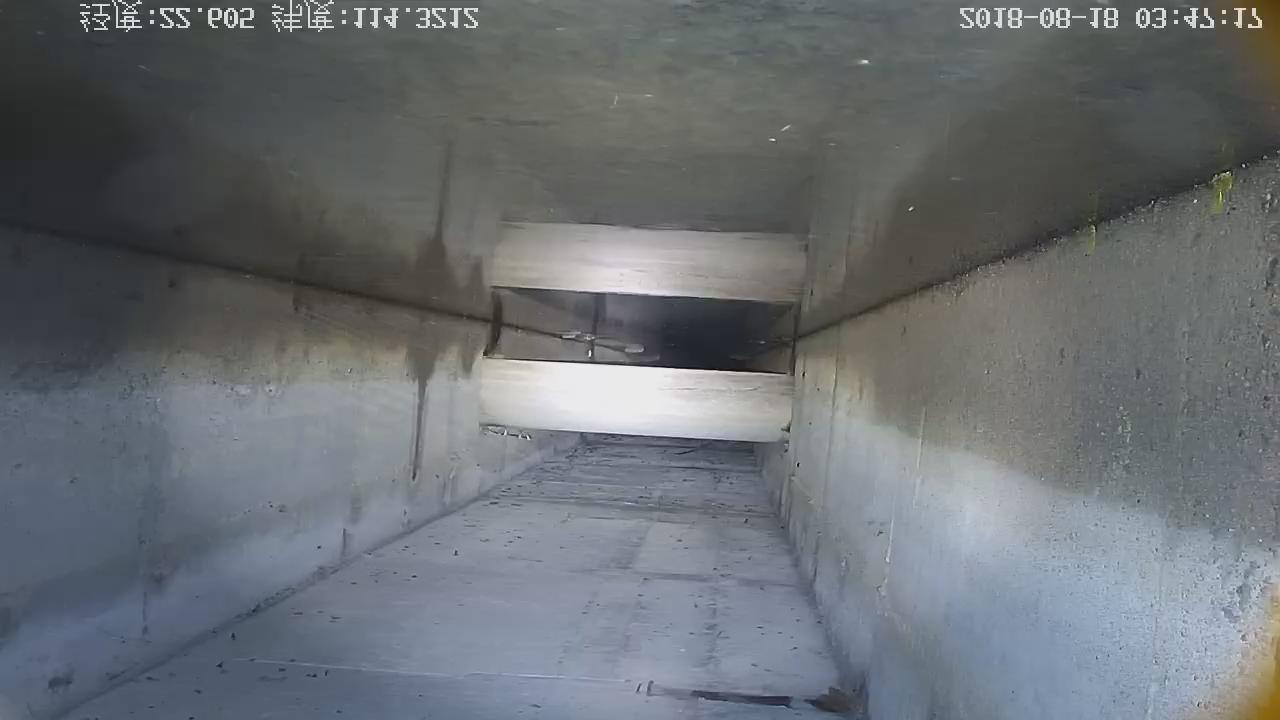YWCR: (479, 356, 793, 442)
